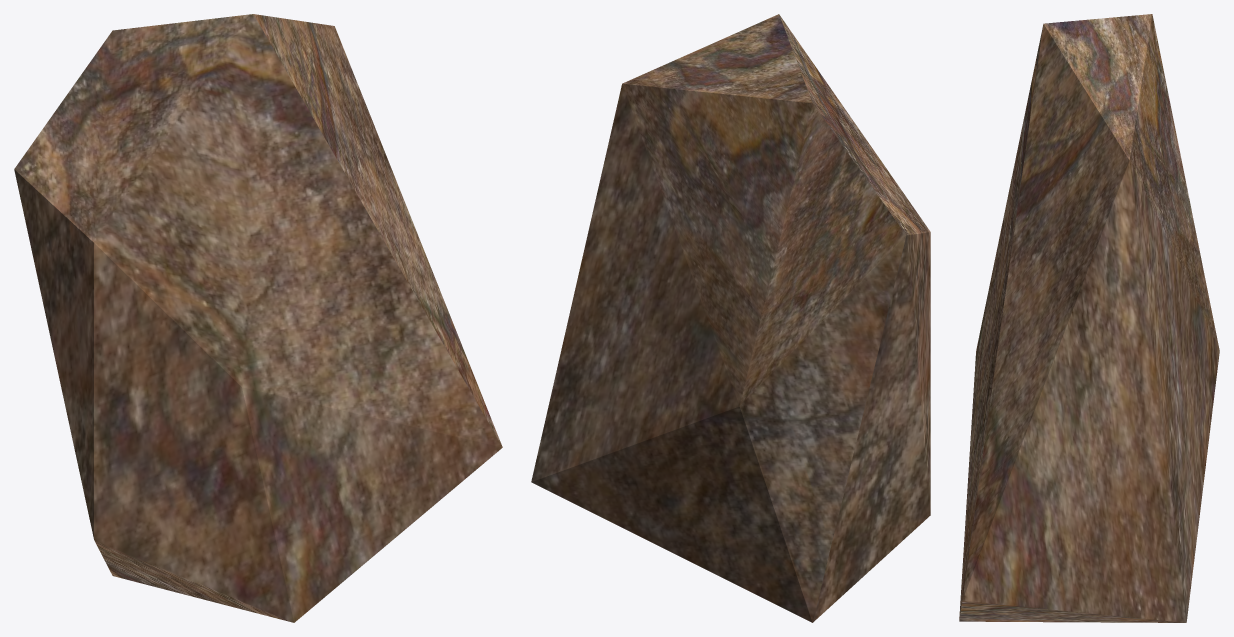
Rendered from Rock2.fbx.
The picture shows the model from 3 angles, left to right: view 1: azimuth 30°, elevation 25°; view 2: azimuth 150°, elevation 25°; view 3: azimuth 270°, elevation 25°; orthographic projection. The views are drawn at different scales.
Parts seen in each view (by area): view 1: pPlatonic1; view 2: pPlatonic1; view 3: pPlatonic1.
Boxes of the visible parts, <box> form: pPlatonic1: <box>14,14,502,622</box>; pPlatonic1: <box>531,14,930,622</box>; pPlatonic1: <box>959,14,1219,622</box>.
Bounding box in the file's own units: 21.32 × 29.75 × 11.75.
1 material, 1 textured.
